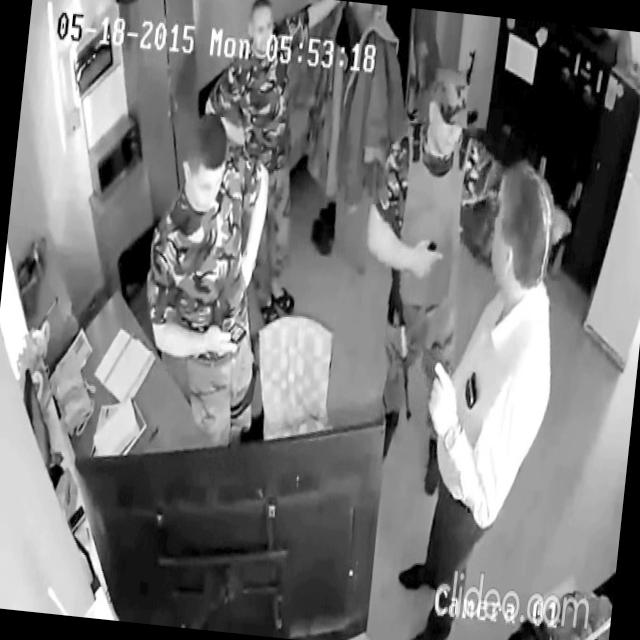gun: (374, 260, 427, 422), (459, 46, 486, 130)
person: (388, 149, 574, 640), (129, 106, 284, 449), (181, 0, 341, 325)
person with a gun: (340, 59, 585, 510)
